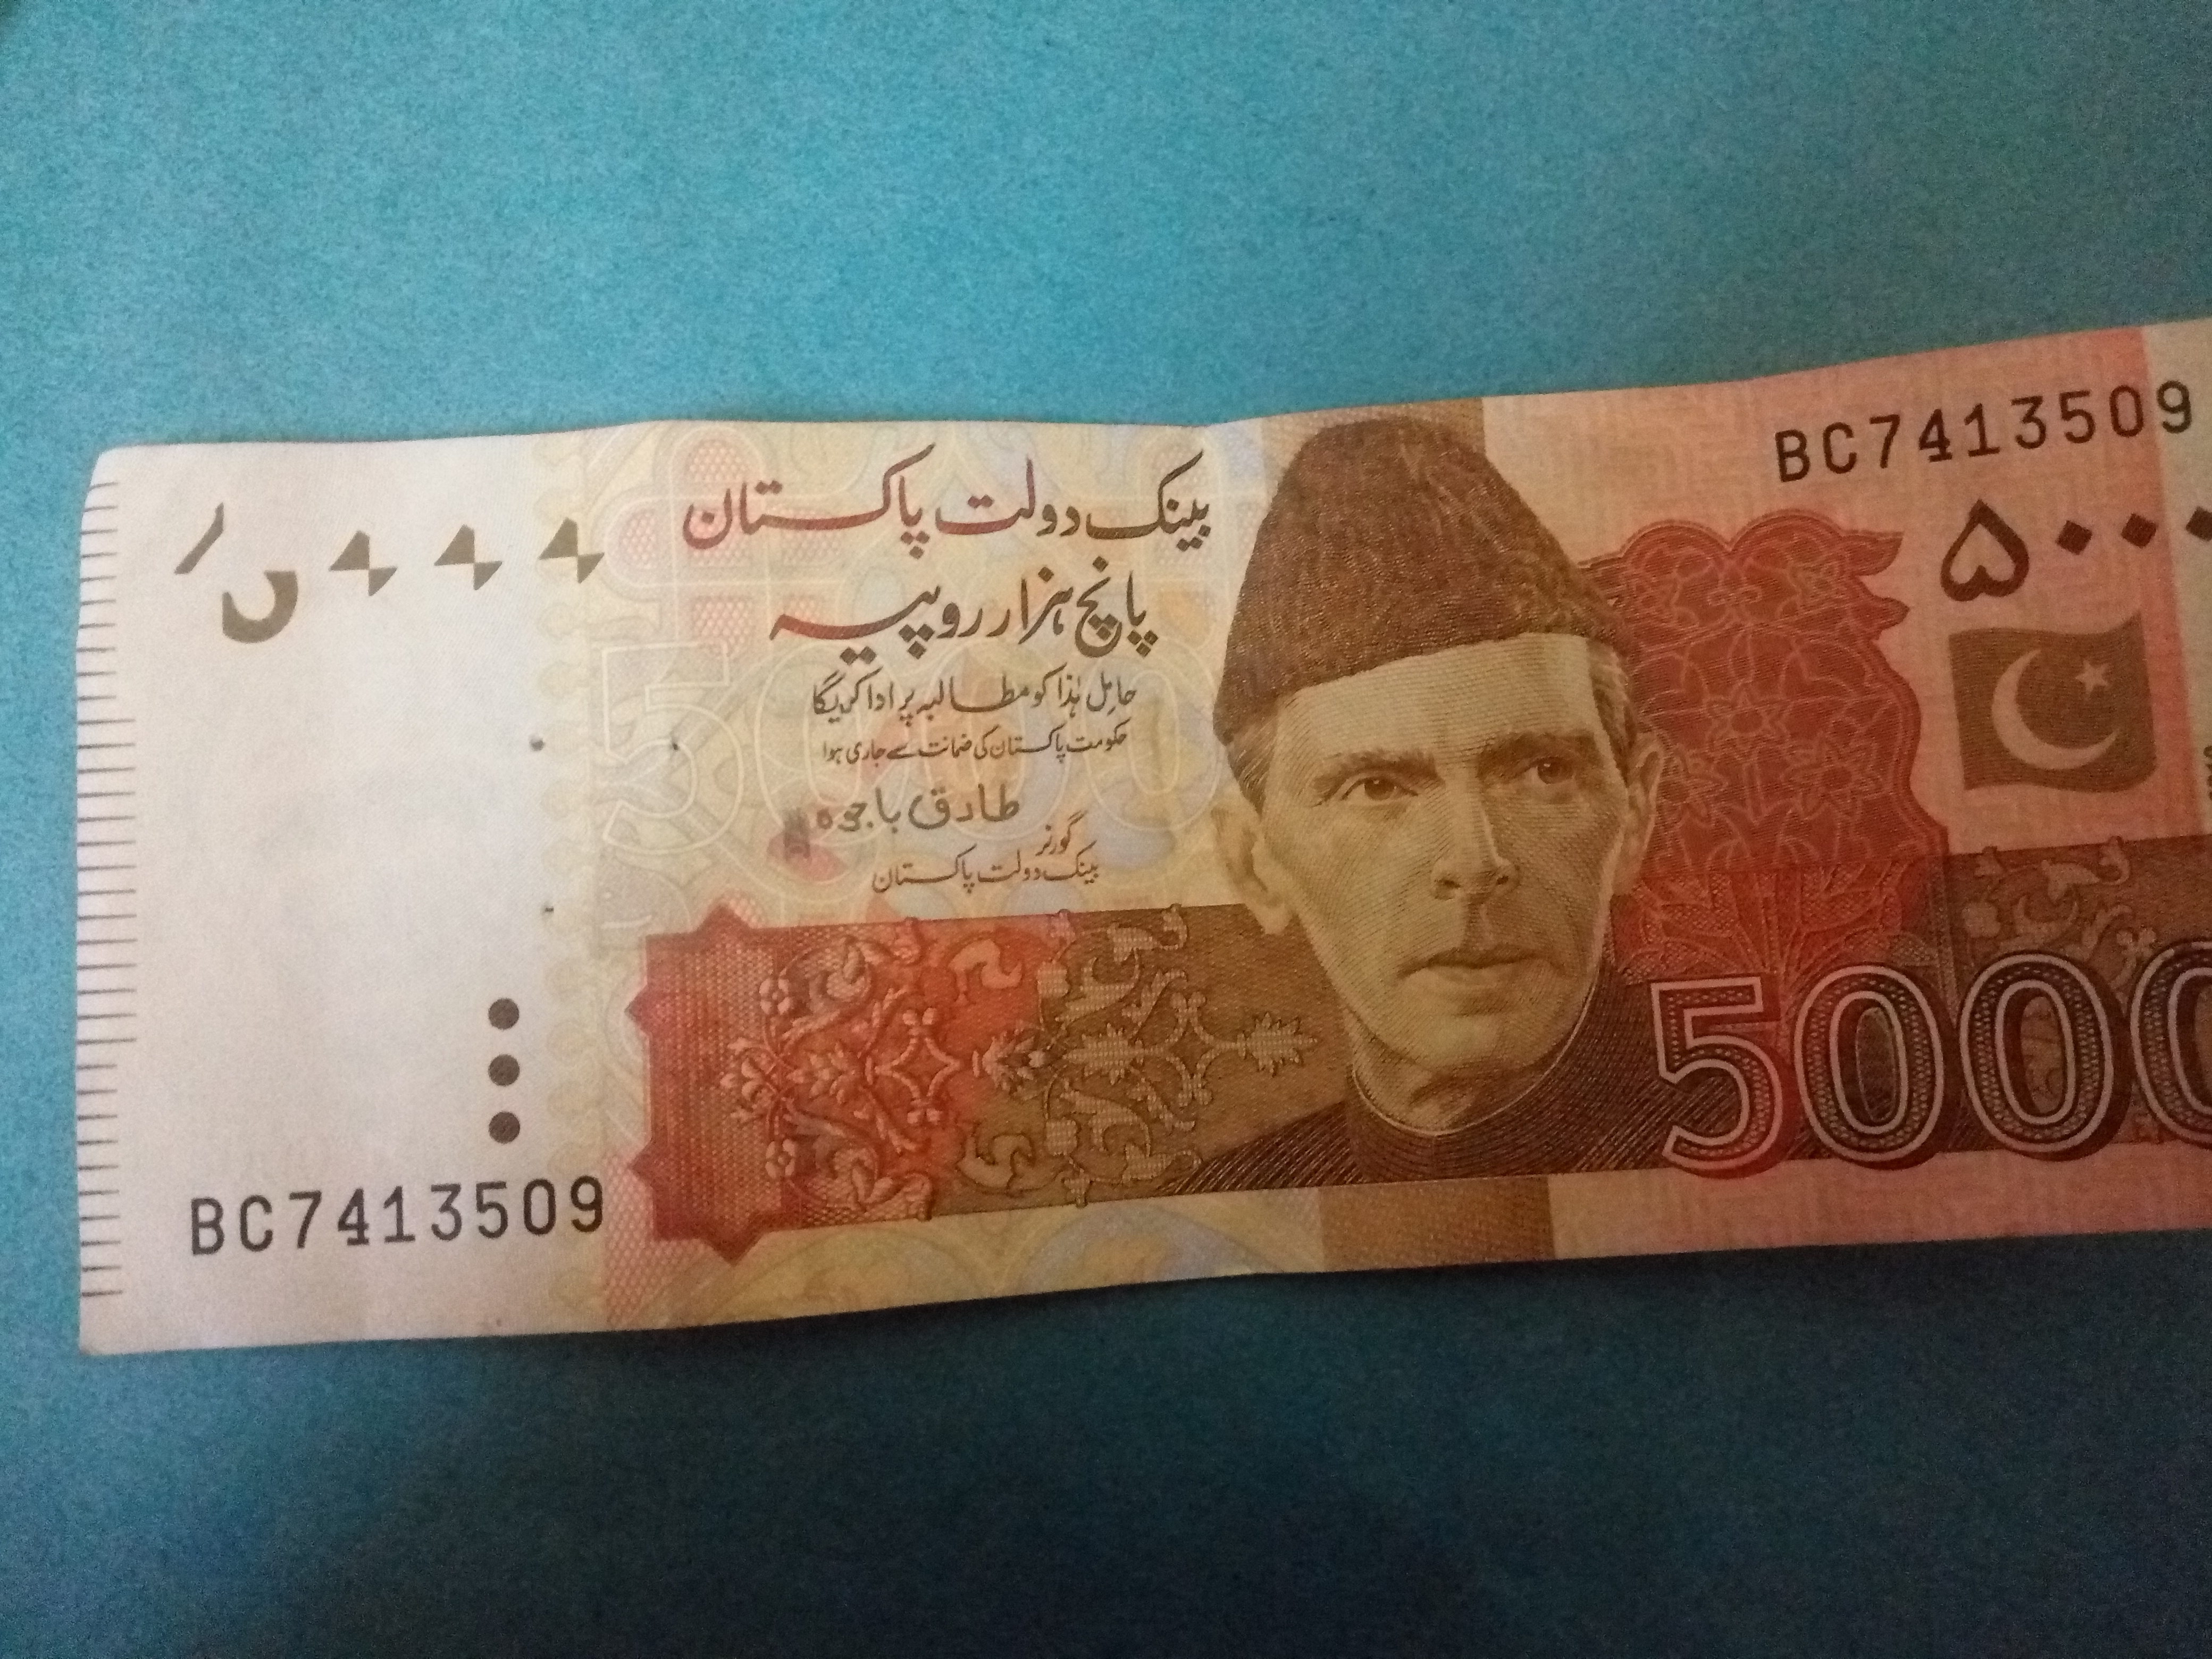5000 rupee: (75, 331, 2212, 1450)
